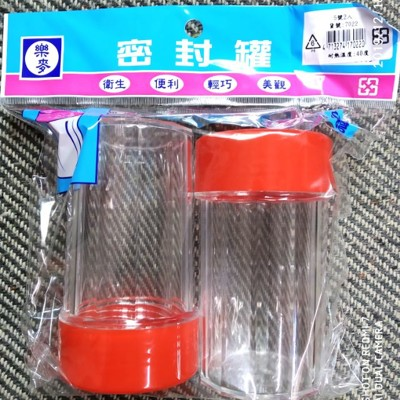medicinejar: (61, 104, 205, 390), (192, 131, 330, 400)
